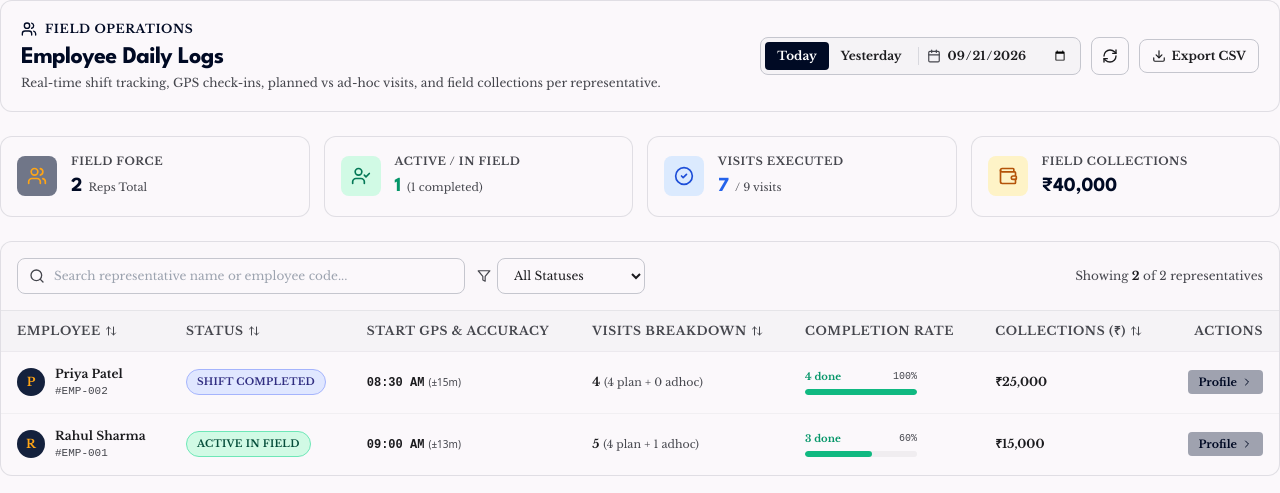
Test: EmployeeDailyLogsPage › filters table rows by status
expect the text "Rahul Sharma" is shown: met, box [55,428,146,444]
Select "Shift Completed" in the dropdown at (571, 276), box [497,258,645,294]
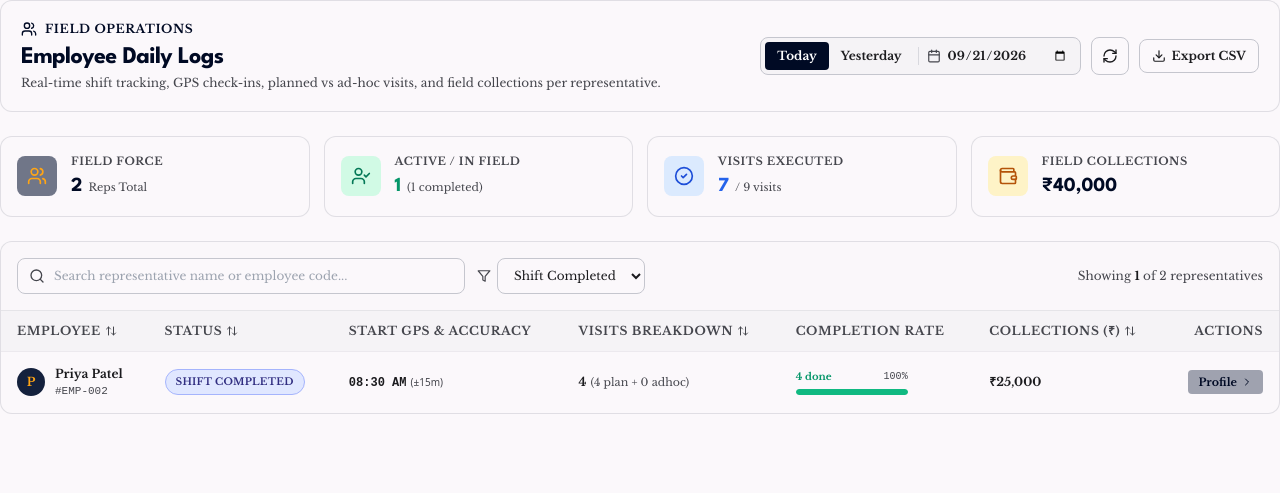
expect the text "Priya Patel" is shown: met, box [55,366,123,382]
expect the text "Rahul Sharma" is gone: met
